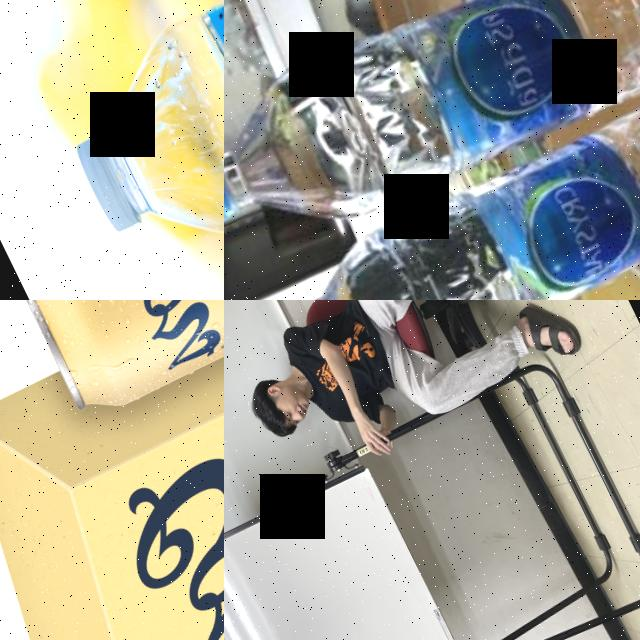bottle: (224, 0, 640, 290), (239, 38, 640, 300), (38, 0, 224, 296)
can: (0, 300, 224, 425)
